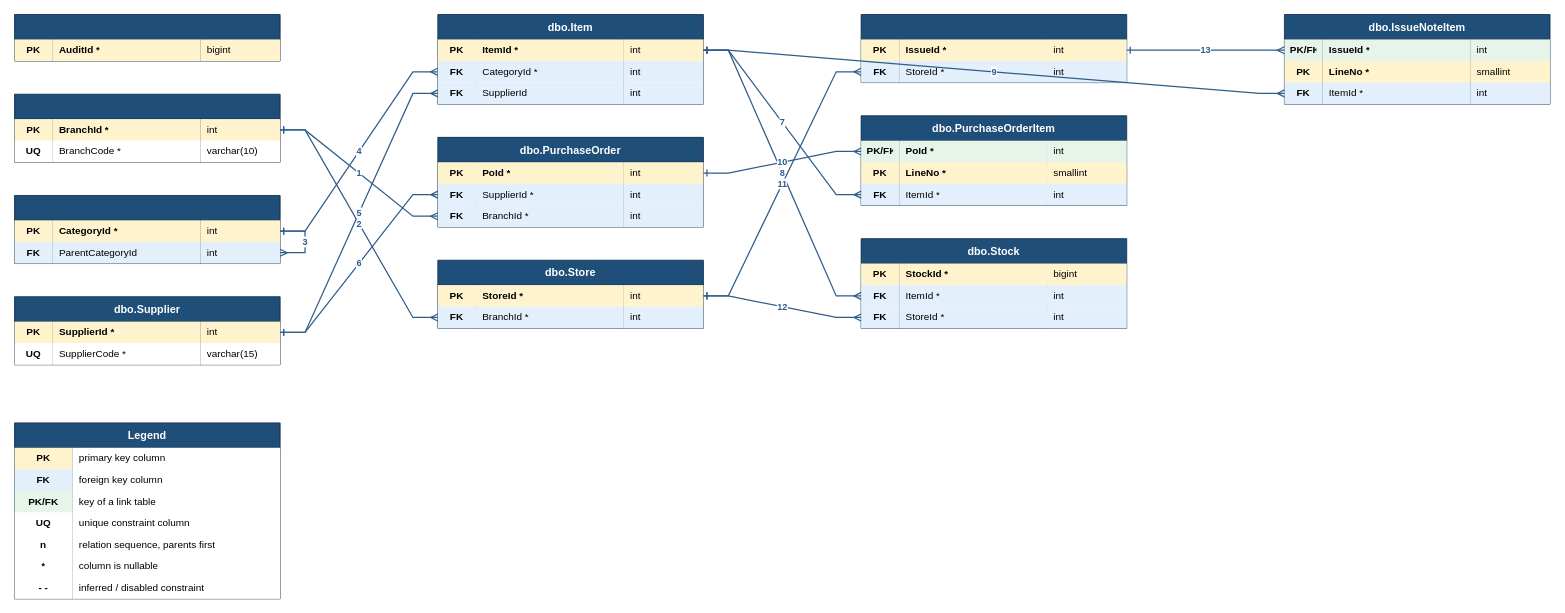
This 1565x613 diagram has some shape labels left out. The box of each missing label's shape, as (x1, y1, x2, y2) in pixels:
dbo.AuditLog: (14, 14, 280, 61)
dbo.Branch: (14, 93, 280, 162)
dbo.Category: (14, 195, 280, 264)
dbo.IssueNote: (860, 14, 1127, 83)
